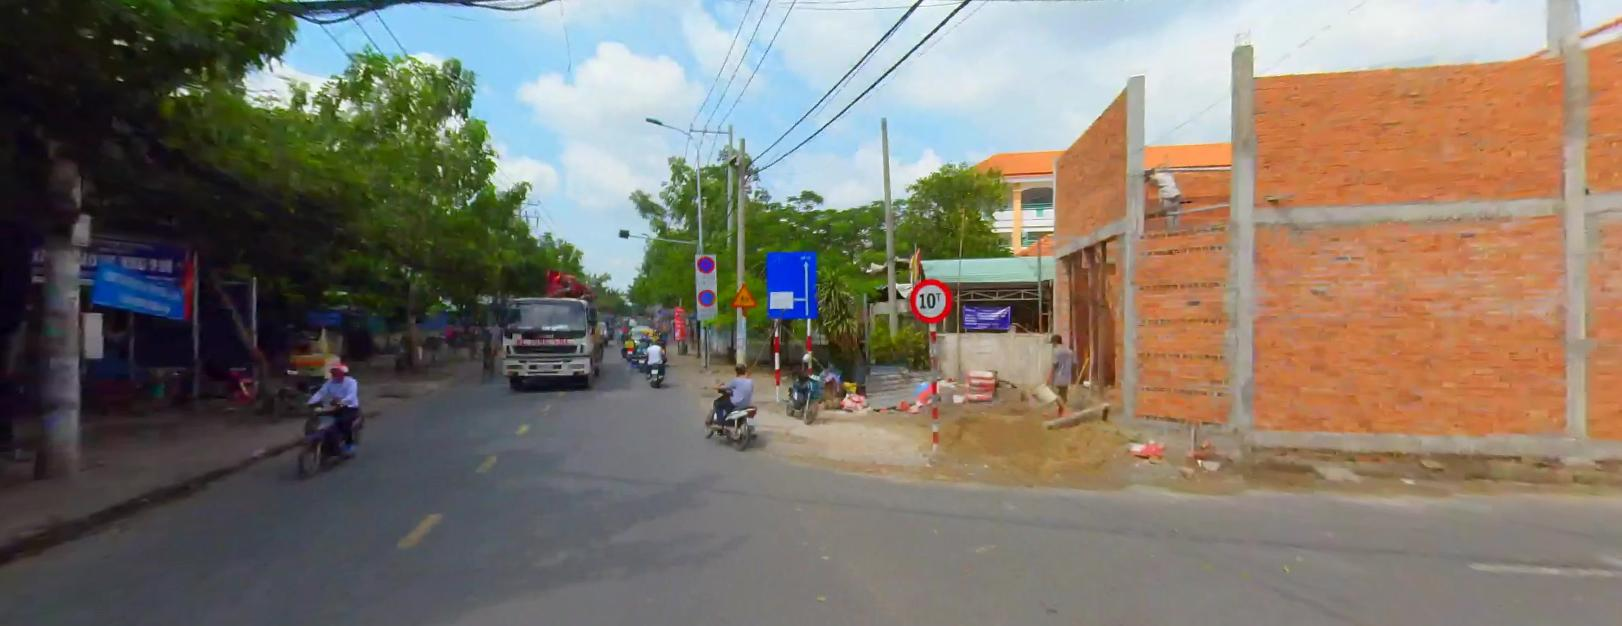Cam con lai: (904, 275, 951, 323)
Cam dung va do: (694, 253, 715, 273), (696, 287, 716, 304)
Nguy hiem: (730, 281, 757, 305)
